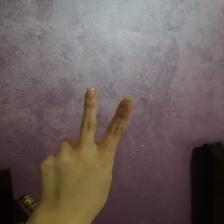two: (40, 88, 134, 205)
